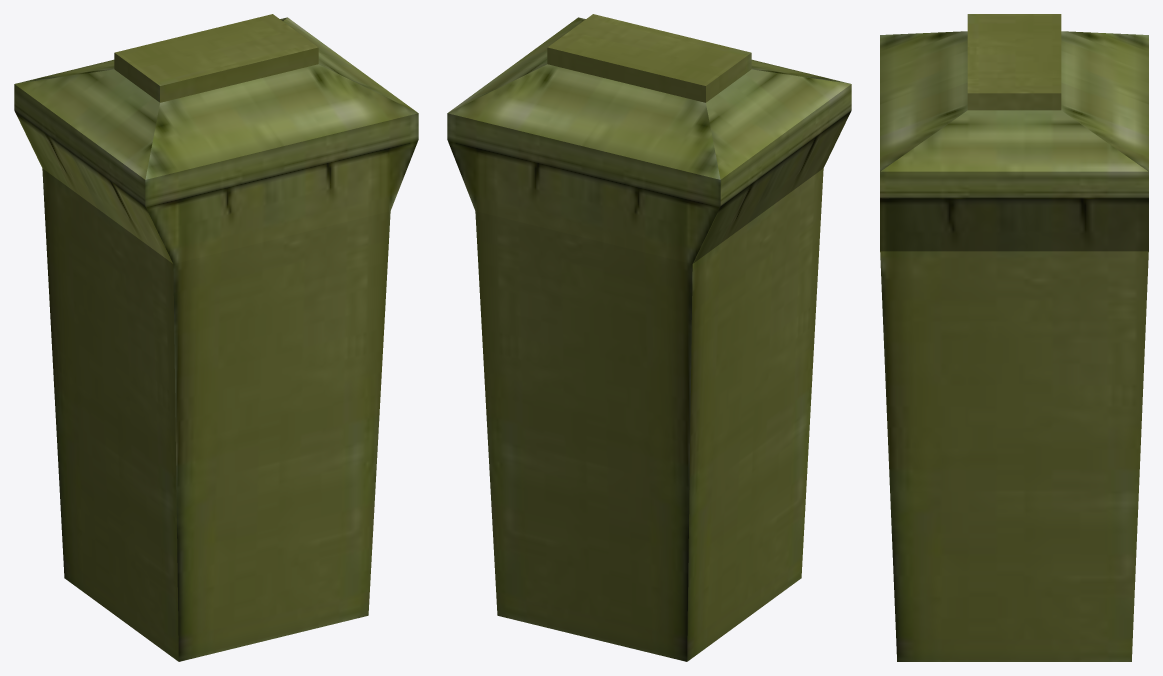
The model's file is green_plastic_bin.FBX.
The picture shows the model from 3 angles, left to right: view 1: azimuth 30°, elevation 25°; view 2: azimuth 150°, elevation 25°; view 3: azimuth 270°, elevation 25°; orthographic projection. The views are drawn at different scales.
Visible parts, largest first — view 1: green_plastic_bin; view 2: green_plastic_bin; view 3: green_plastic_bin.
Boxes of the visible parts, x1,y1,x2,y2 form: green_plastic_bin: (14, 14, 418, 661); green_plastic_bin: (447, 14, 851, 661); green_plastic_bin: (880, 14, 1148, 661).
Size of the model in its own units: 53.41 by 102 by 44.36.
